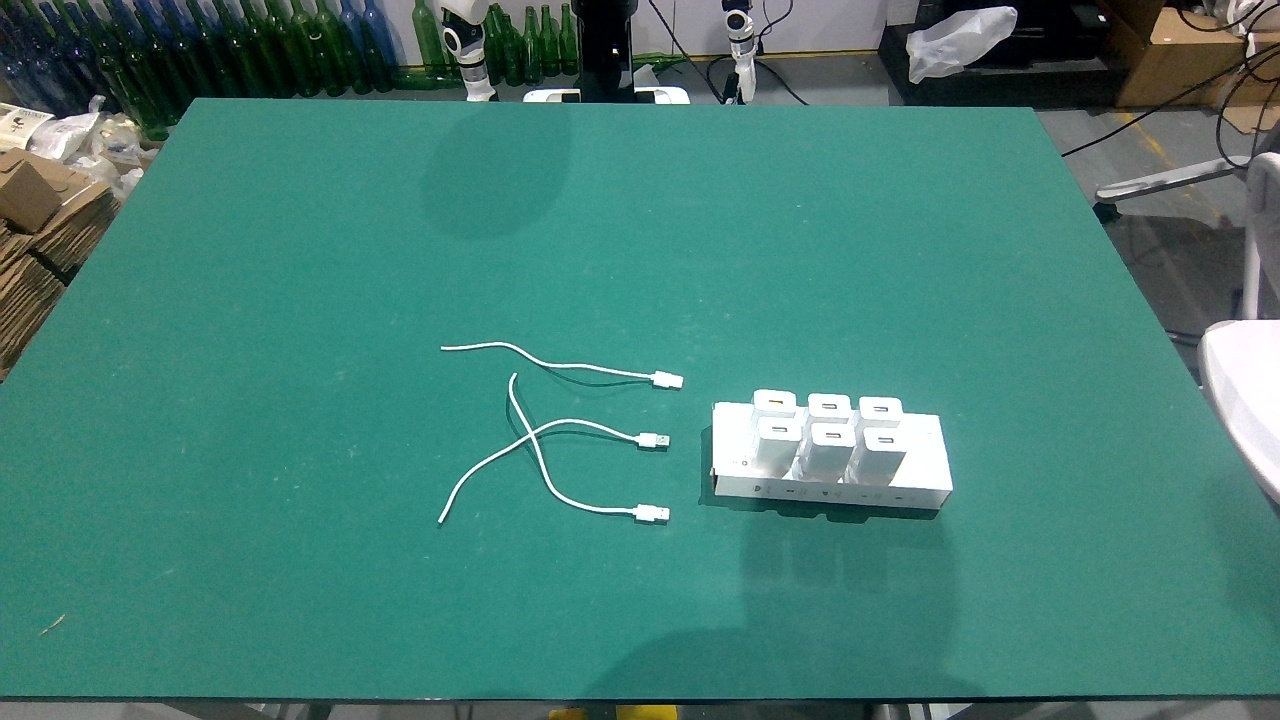usb_a_port: (819, 402, 839, 412), (769, 425, 789, 434), (824, 431, 844, 440), (876, 436, 896, 445), (766, 398, 785, 407), (871, 405, 890, 413)
